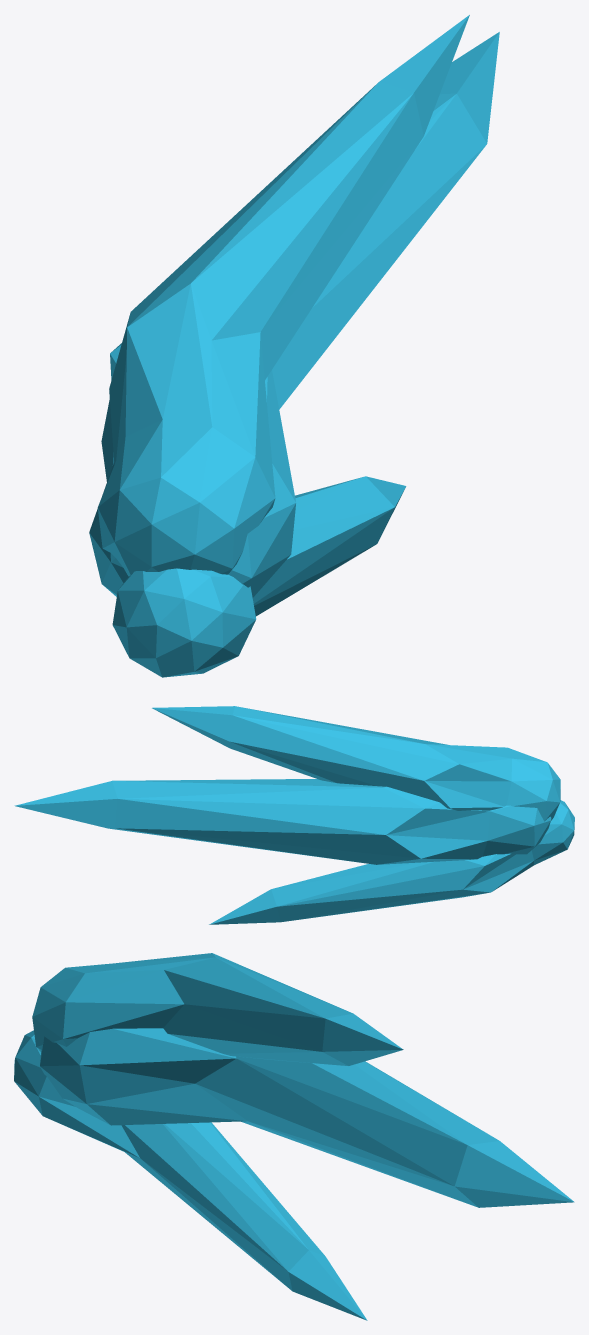
The model's file is meshbuz3.fbx.
3 renders of one model, top to bottom at view 1: azimuth 30°, elevation 25°; view 2: azimuth 150°, elevation 25°; view 3: azimuth 270°, elevation 25°, orthographic. The views are drawn at different scales.
Visible parts, largest first — view 1: Icosphere.010; view 2: Icosphere.010; view 3: Icosphere.010.
Boxes of the visible parts, <box> form: Icosphere.010: <box>89,15,499,677</box>; Icosphere.010: <box>14,706,574,924</box>; Icosphere.010: <box>14,953,574,1320</box>.
Size of the model in its own units: 744 by 410 by 692.
